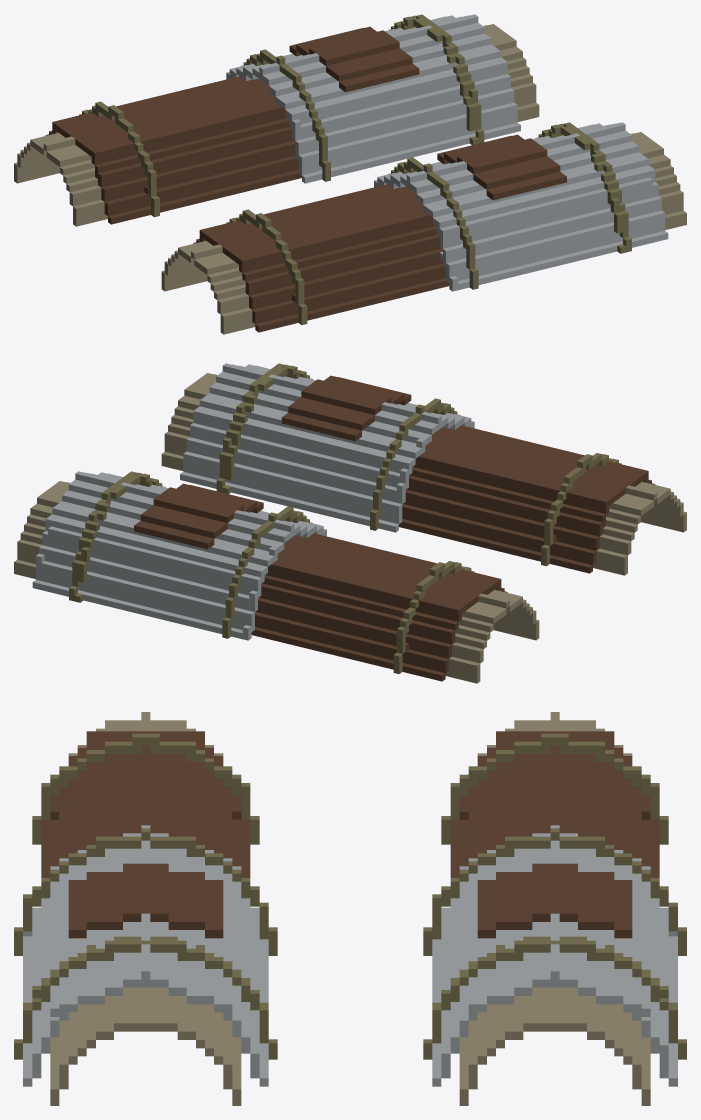
The model's file is armguard_scrap.glb.
3 renders of one model, top to bottom at view 1: azimuth 30°, elevation 25°; view 2: azimuth 150°, elevation 25°; view 3: azimuth 270°, elevation 25°, orthographic. The views are drawn at different scales.
Parts seen in each view (by area): view 1: armguard_scrap:compound; view 2: armguard_scrap:compound; view 3: armguard_scrap:compound.
Boxes of the visible parts, x1=… form: armguard_scrap:compound: x1=14, y1=14, x2=686, y2=334; armguard_scrap:compound: x1=14, y1=363, x2=686, y2=683; armguard_scrap:compound: x1=14, y1=712, x2=686, y2=1105.
Size of the model in its own units: 0.324 by 0.06 by 0.296.
